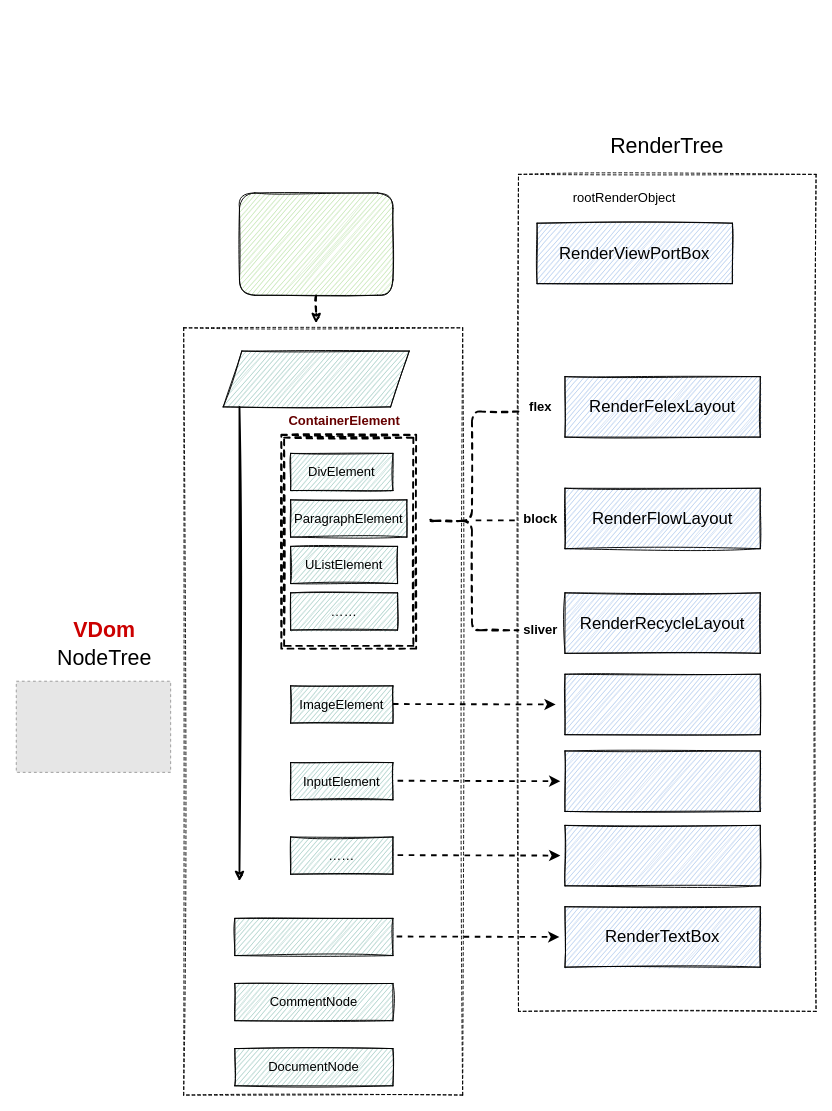
Some shapes in this 832 by 1111 pixel diagram are drawn without their labels. Grey dashed boxes stand in for pictures. The shapes that lost their labels are listed below. From the top down, each one's box as (x1, y1, x2, y2) in pixels, then its label:
(239, 192, 393, 295): KrakenWidget
(222, 350, 409, 407): ElementManager
(424, 410, 519, 631): display
(564, 673, 760, 735): RenderImage
(564, 750, 760, 811): RenderEditable
(564, 824, 760, 886): OtherRenderObject
(234, 917, 393, 956): TextNode
